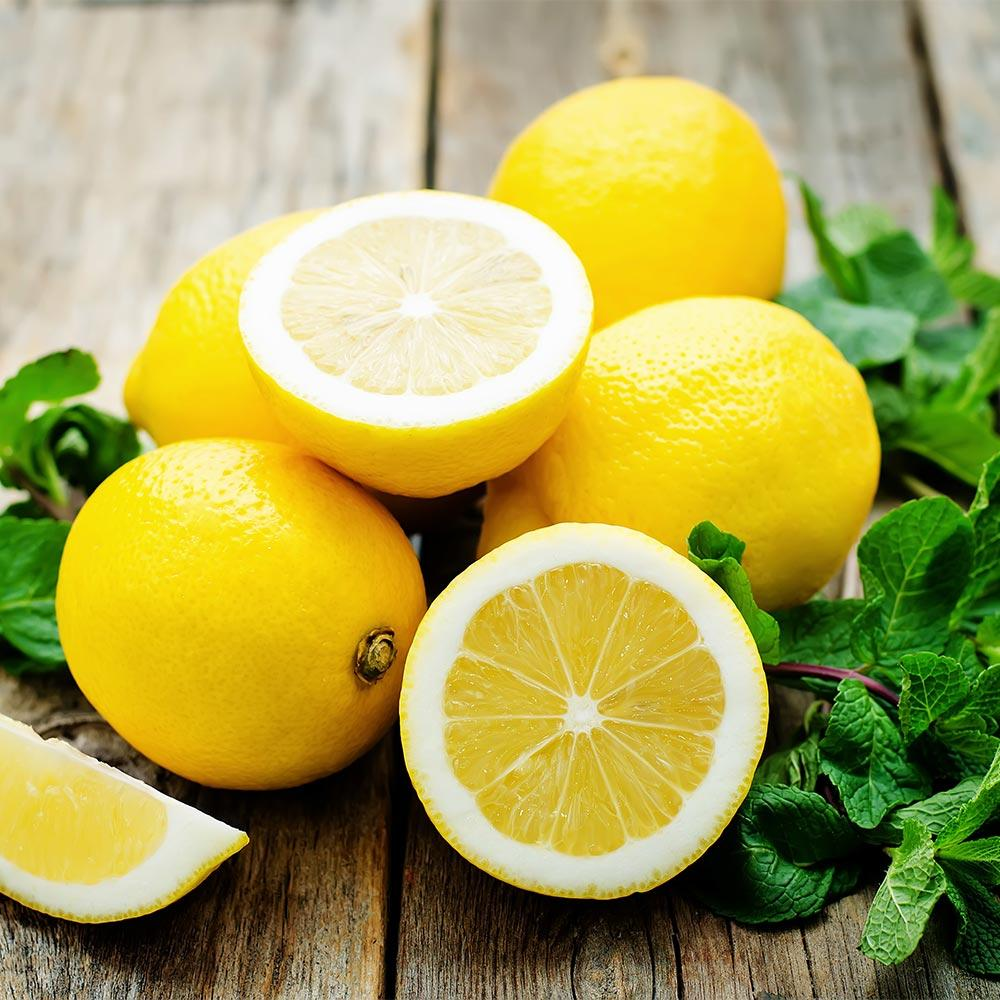orange: (410, 528, 775, 918), (52, 434, 403, 787), (226, 194, 600, 470), (598, 302, 885, 584), (500, 76, 804, 300)
